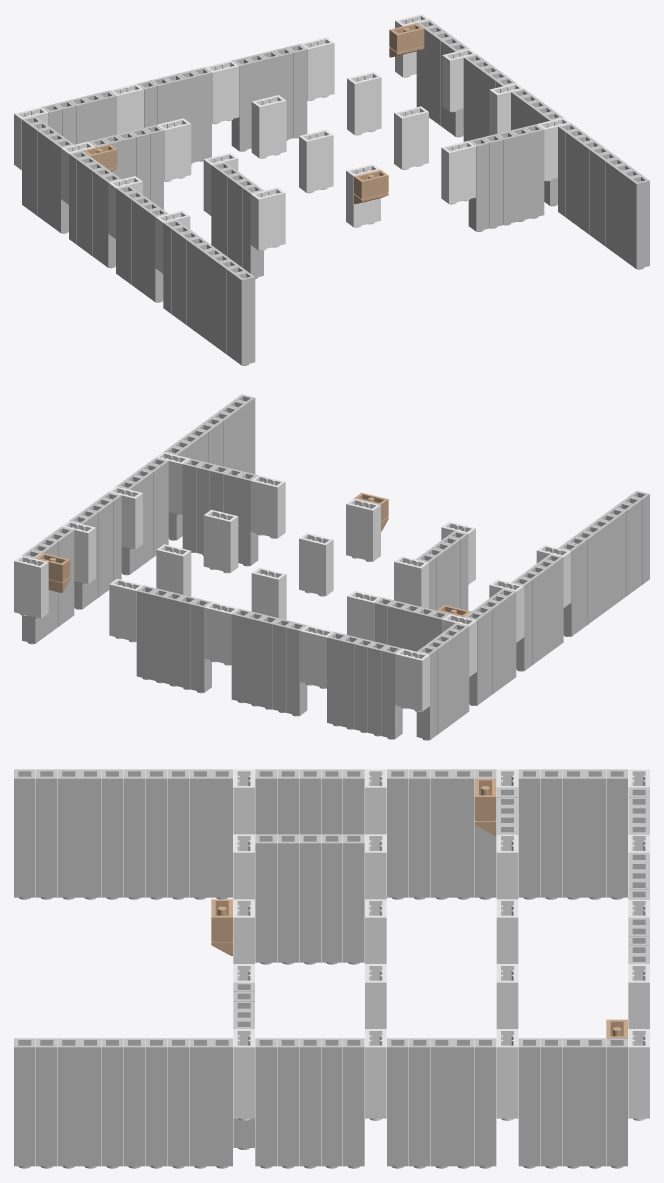
File: static.glb
The picture shows the model from 3 angles, top to bottom: view 1: azimuth 30°, elevation 25°; view 2: azimuth 150°, elevation 25°; view 3: azimuth 270°, elevation 25°; orthographic projection. The views are drawn at different scales.
Parts seen in each view (by area): view 1: Part-2453a_dot_dat (×71), Part-22886_dot_dat (×20), Part-3004_dot_dat (×3); view 2: Part-2453a_dot_dat (×72), Part-22886_dot_dat (×20), Part-3004_dot_dat; view 3: Part-2453a_dot_dat (×56), Part-22886_dot_dat (×15), Part-3004_dot_dat (×2).
Part boxes in pixels (x1,y1,x2,y2): Part-2453a_dot_dat (×71): (22,20,649,365); Part-22886_dot_dat (×20): (14,14,570,273); Part-3004_dot_dat (×3): (83,23,424,198); Part-2453a_dot_dat (×72): (22,394,649,740); Part-22886_dot_dat (×20): (14,452,571,712); Part-3004_dot_dat: (35,553,70,581); Part-2453a_dot_dat (×56): (14,769,627,1168); Part-22886_dot_dat (×15): (233,769,649,1120); Part-3004_dot_dat (×2): (211,778,496,941).
Size of the model in its own units: 23.99 by 4.95 by 23.19.
